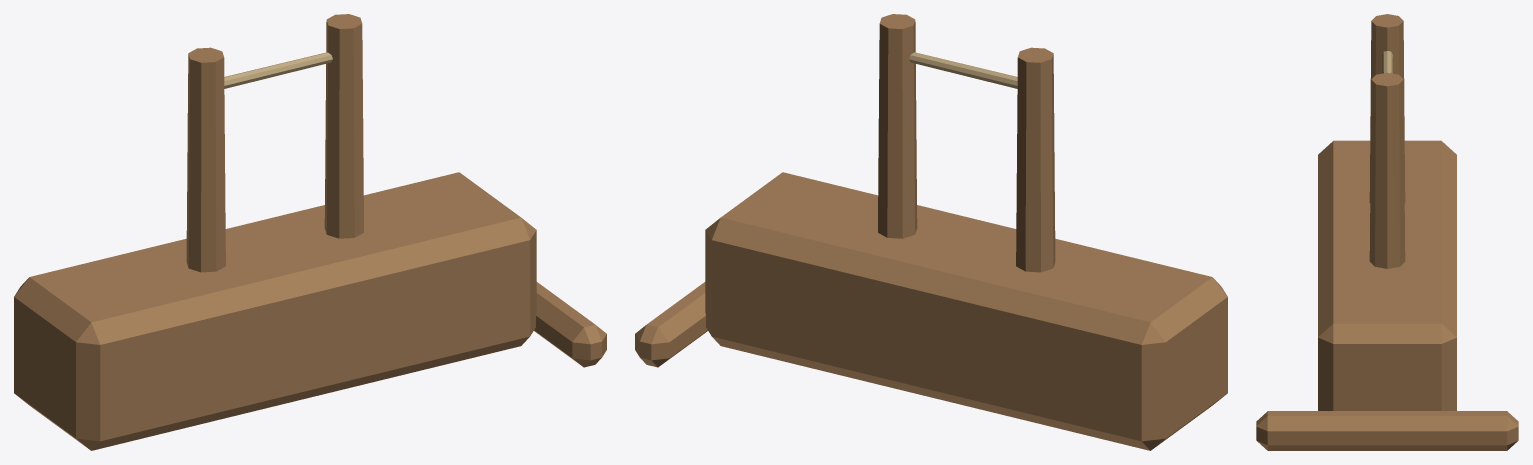
3 views of the same model, side by side, from view 1: azimuth 30°, elevation 25°; view 2: azimuth 150°, elevation 25°; view 3: azimuth 270°, elevation 25° (orthographic). The views are drawn at different scales.
Parts seen in each view (by area): view 1: CE-046 Paired thole-pin oar support batched; view 2: CE-046 Paired thole-pin oar support batched; view 3: CE-046 Paired thole-pin oar support batched.
Boxes of the visible parts, <box> form: CE-046 Paired thole-pin oar support batched: <box>14,14,606,450</box>; CE-046 Paired thole-pin oar support batched: <box>635,14,1227,450</box>; CE-046 Paired thole-pin oar support batched: <box>1256,14,1518,450</box>.
Bounding box in the file's own units: 0.6425 × 0.42 × 0.34.
